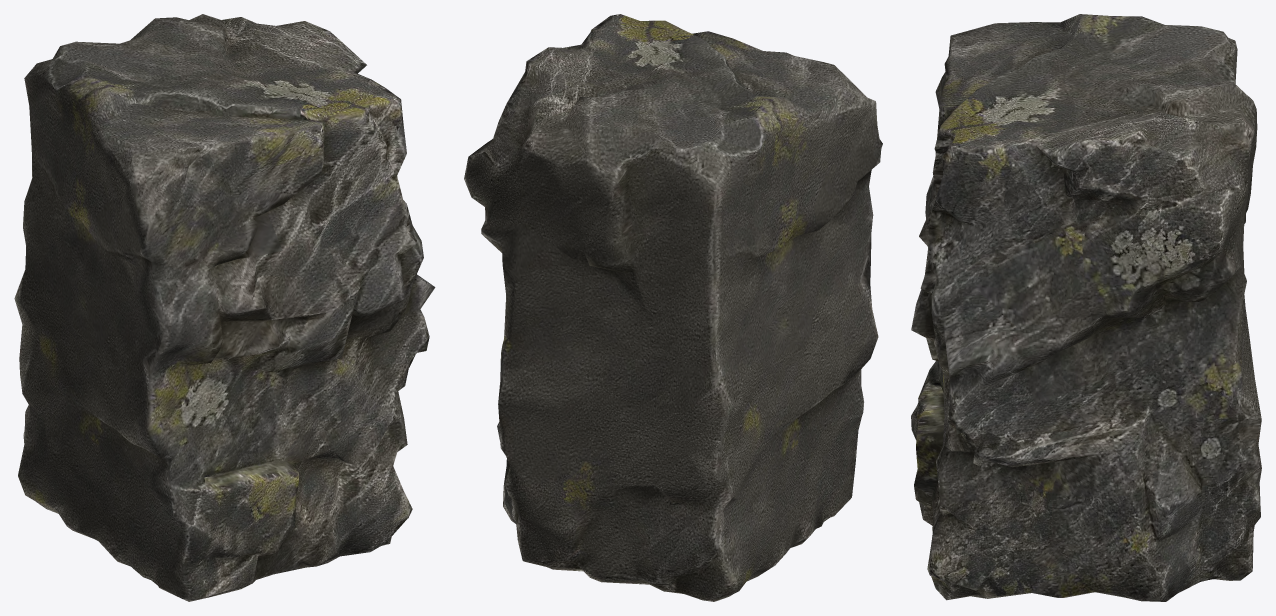
The model's file is rock-block.glb.
3 renders of one model, left to right at view 1: azimuth 30°, elevation 25°; view 2: azimuth 150°, elevation 25°; view 3: azimuth 270°, elevation 25°, orthographic. The views are drawn at different scales.
Parts seen in each view (by area): view 1: tripo_node_1d53b97b-f29c-4282-bb07-638360c3ca39; view 2: tripo_node_1d53b97b-f29c-4282-bb07-638360c3ca39; view 3: tripo_node_1d53b97b-f29c-4282-bb07-638360c3ca39.
Part boxes in pixels (x1=…): tripo_node_1d53b97b-f29c-4282-bb07-638360c3ca39: x1=14, y1=14, x2=435, y2=601; tripo_node_1d53b97b-f29c-4282-bb07-638360c3ca39: x1=464, y1=14, x2=882, y2=601; tripo_node_1d53b97b-f29c-4282-bb07-638360c3ca39: x1=911, y1=14, x2=1261, y2=601.
Size of the model in its own units: 0.6823 by 1 by 0.6643.
1 material, 1 textured.
